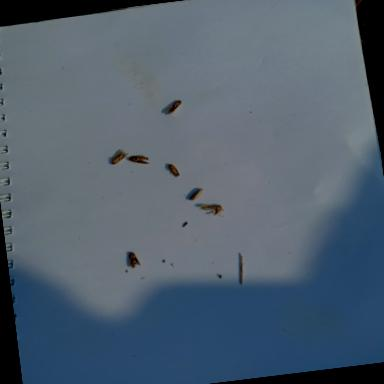pbw: (108, 146, 130, 166), (127, 152, 152, 168), (162, 99, 184, 115), (126, 249, 141, 268), (165, 161, 180, 178), (188, 186, 206, 200)
